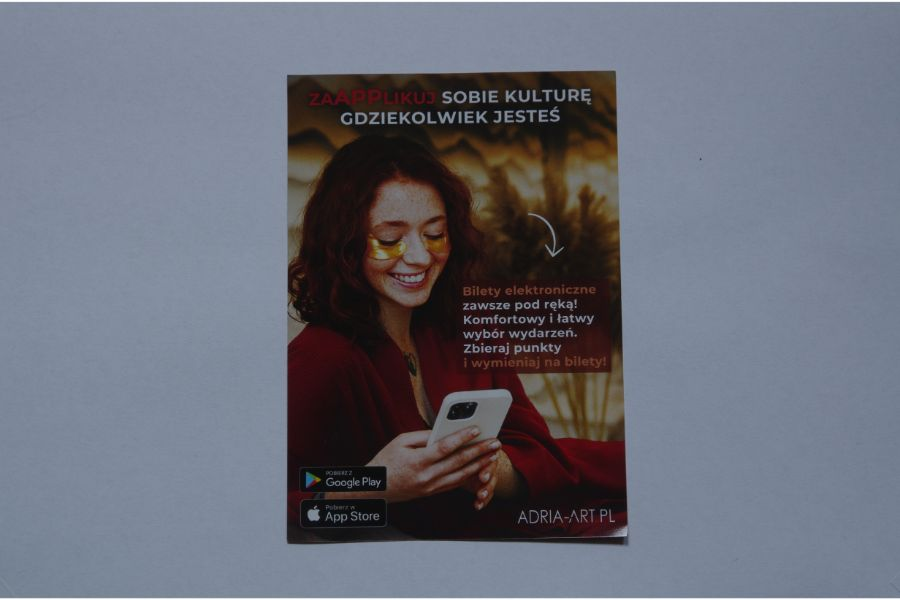album: (286, 70, 633, 545)
